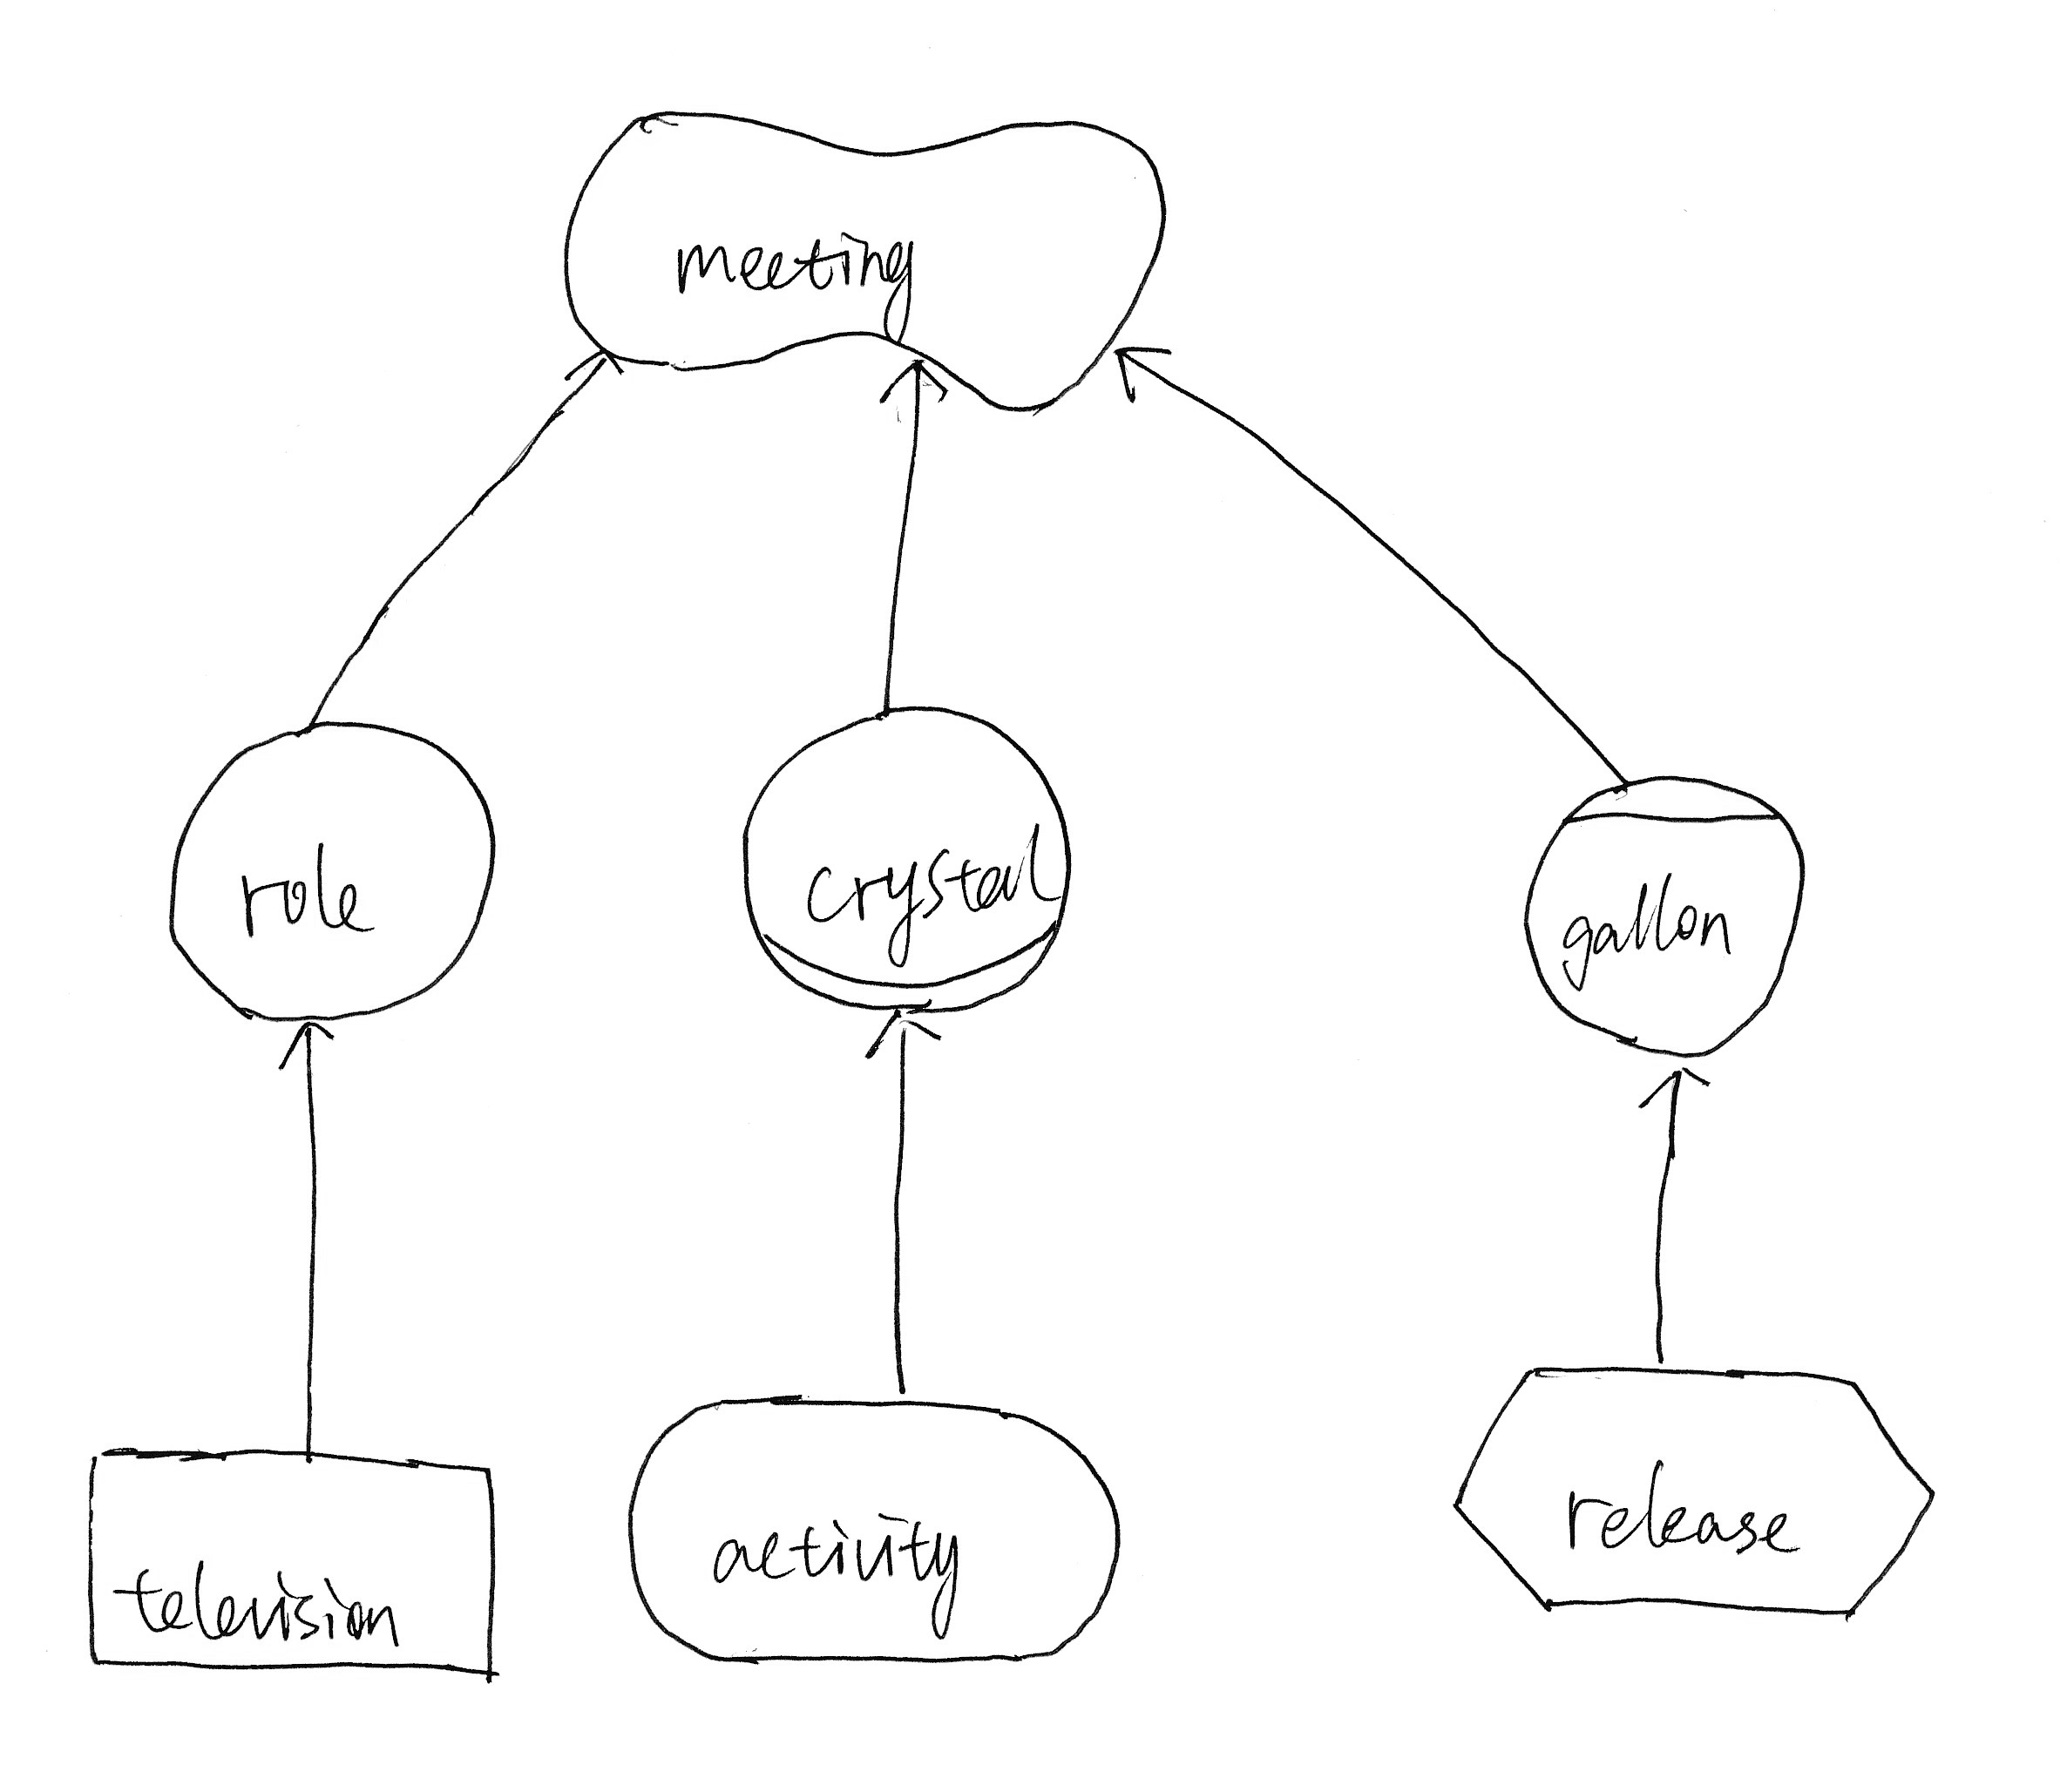actor: (158, 709, 506, 1032)
agent: (1512, 760, 1822, 1072)
arrow: (1627, 1053, 1736, 1132), (855, 1002, 956, 1067), (1100, 335, 1184, 412), (265, 1012, 349, 1088), (869, 352, 955, 420), (550, 345, 629, 410)
goal: (610, 1370, 1133, 1689)
quality: (548, 95, 1182, 427)
resource: (65, 1429, 510, 1694)
role: (725, 692, 1083, 1027)
task: (1440, 1345, 1951, 1634)
